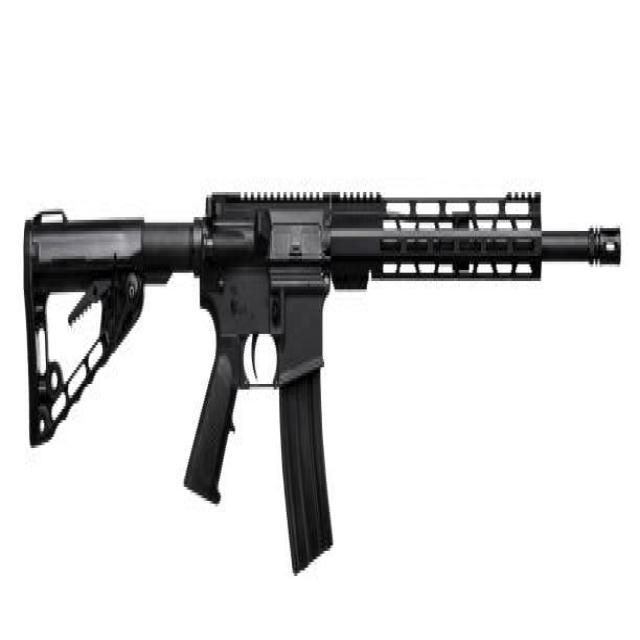rifle: (18, 171, 620, 589)
